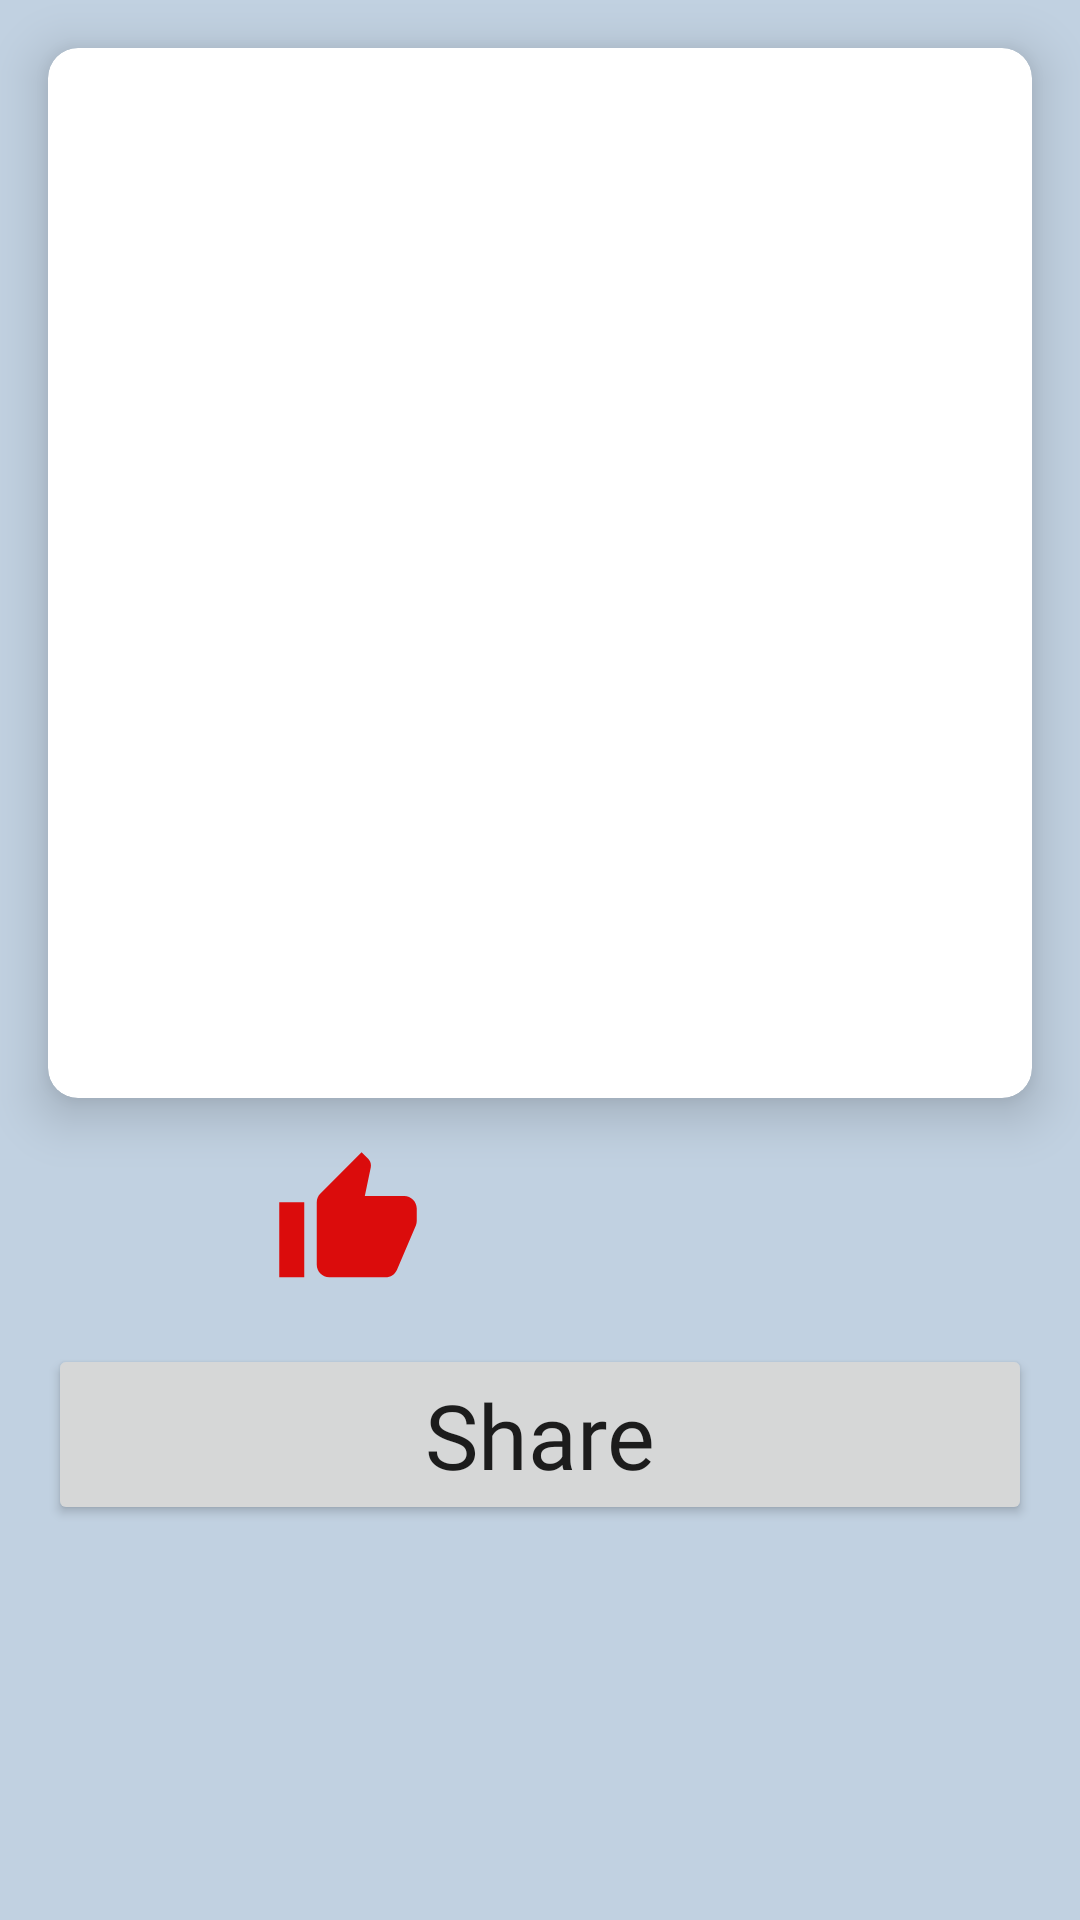

Screen size 1080x1920. Icon name, then its box in pixels as region(x1, y1, x2, y2):
thumb up: region(279, 1152, 417, 1278)
